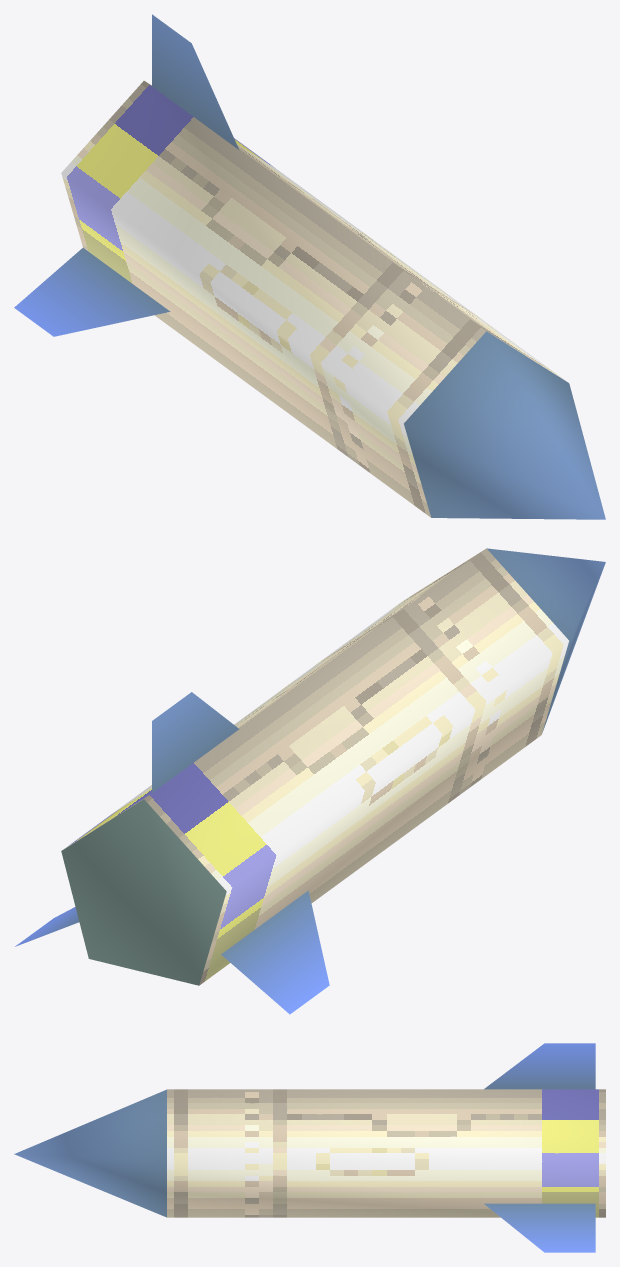
Rendered from homing.glb.
The picture shows the model from 3 angles, top to bottom: view 1: azimuth 30°, elevation 25°; view 2: azimuth 150°, elevation 25°; view 3: azimuth 270°, elevation 25°; orthographic projection. The views are drawn at different scales.
Visible parts, largest first — view 1: object_000; view 2: object_000; view 3: object_000.
Boxes of the visible parts, left/top/right/bottom form: object_000: left=14, top=14, right=605, bottom=519; object_000: left=15, top=548, right=605, bottom=1014; object_000: left=14, top=1043, right=605, bottom=1252.
Bounding box in the file's own units: 80 × 72 × 232.
Materials: 2 (1 with a texture image).
